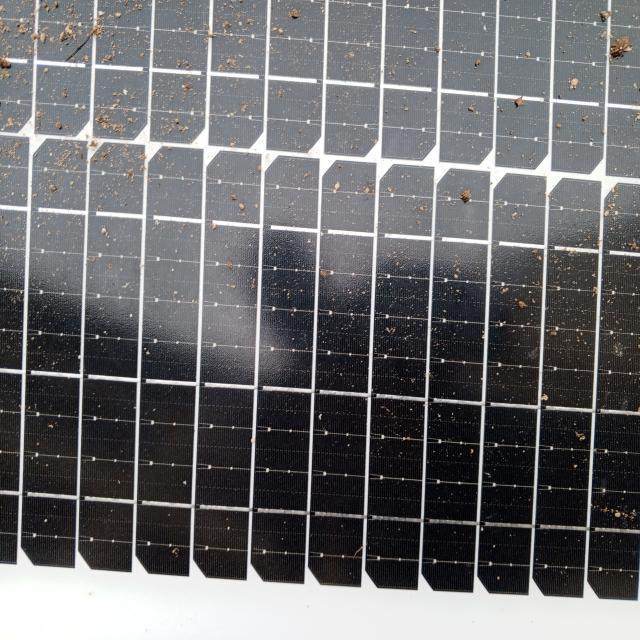Anomaly Solar Panel: (2, 5, 640, 608)
Surface Contaminant: (3, 3, 639, 596)
